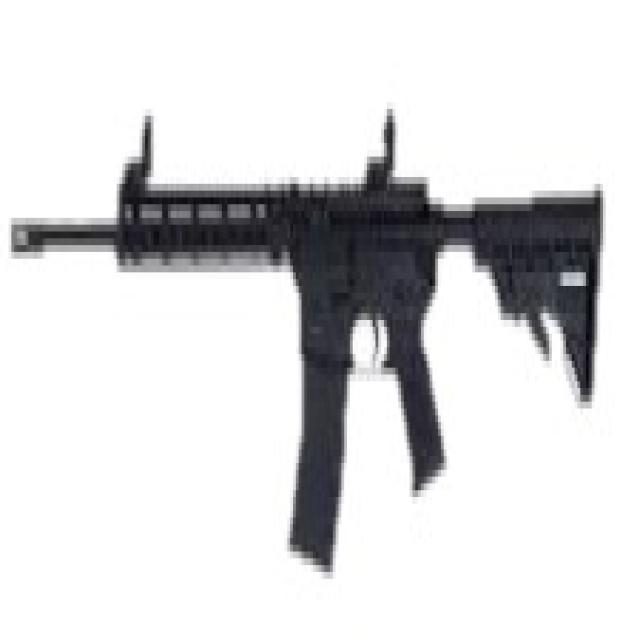rifle: (9, 103, 613, 593)
